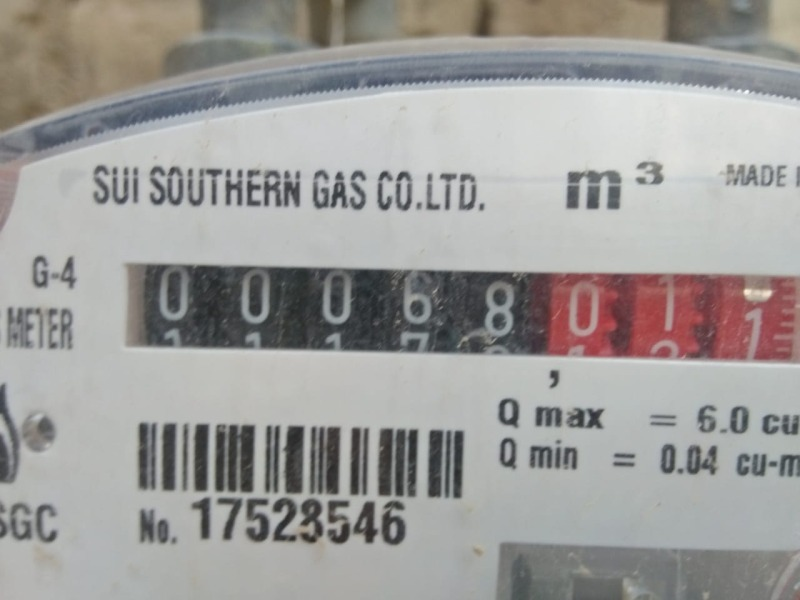ssgc: (120, 257, 798, 369)
